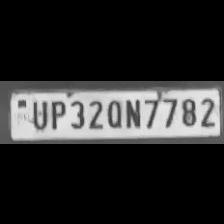2: (196, 94, 218, 128), (86, 97, 104, 129)
3: (67, 97, 85, 129)
7: (158, 95, 178, 127), (142, 96, 160, 128)
8: (178, 95, 198, 127)
N: (122, 96, 142, 128)
P: (47, 97, 66, 128)
Q: (104, 97, 122, 127)
U: (28, 97, 48, 129)
